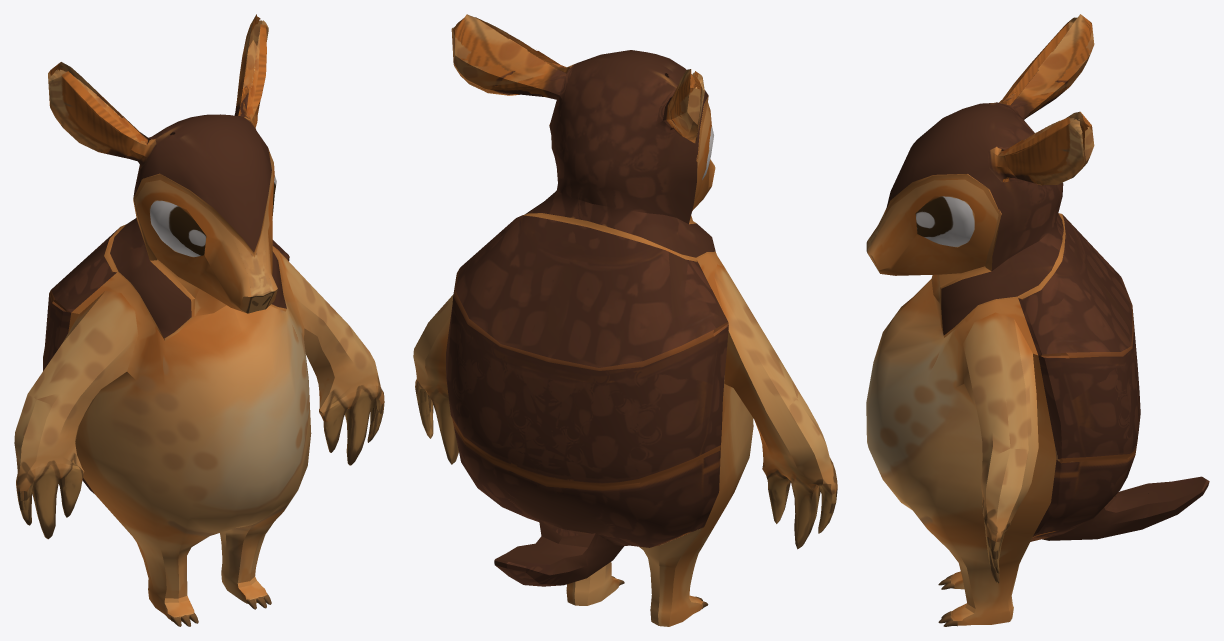
Rendered from TATU_CANASTRA.fbx.
3 views of the same model, side by side, from view 1: azimuth 30°, elevation 25°; view 2: azimuth 150°, elevation 25°; view 3: azimuth 270°, elevation 25° (orthographic). The views are drawn at different scales.
Visible parts, largest first — view 1: Tatu; view 2: Tatu; view 3: Tatu.
Boxes of the visible parts, x1,y1,x2,y2 form: Tatu: [14, 14, 384, 626]; Tatu: [413, 14, 837, 626]; Tatu: [866, 14, 1209, 626].
Size of the model in its own units: 73.33 by 101 by 58.22.
